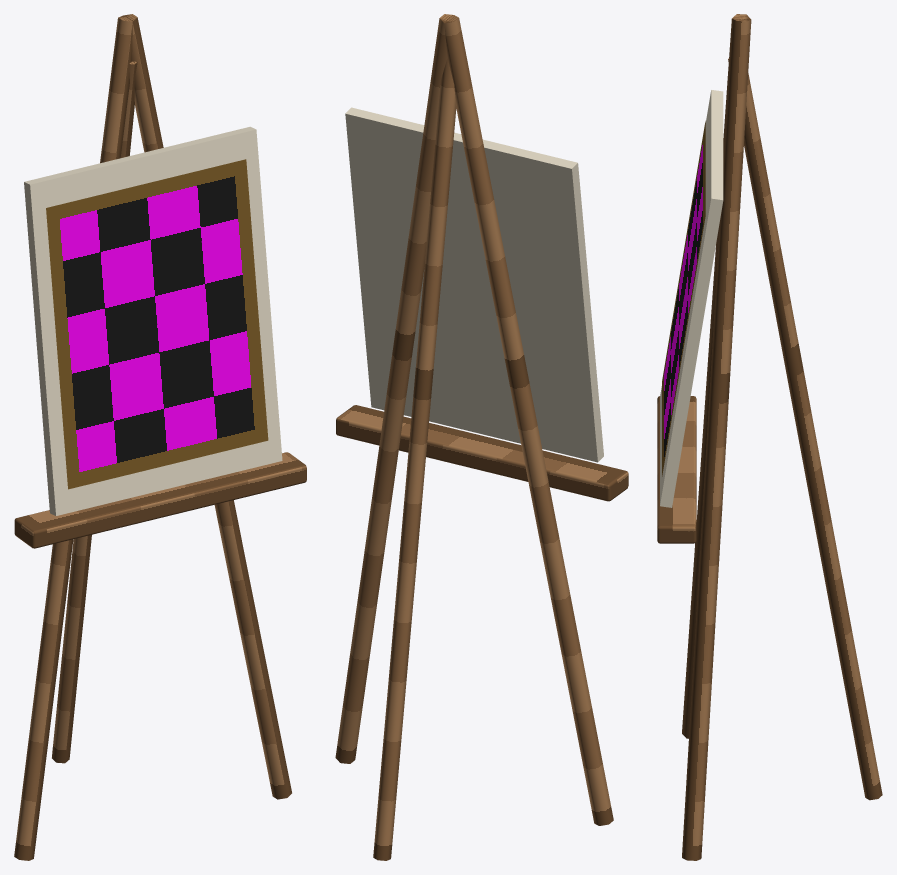
Rendered from easel.glb.
3 renders of one model, left to right at view 1: azimuth 30°, elevation 25°; view 2: azimuth 150°, elevation 25°; view 3: azimuth 270°, elevation 25°, orthographic.
Parts seen in each view (by area): view 1: dyn_painting_variant, dyn_wood_variant, easel; view 2: dyn_wood_variant, easel; view 3: dyn_wood_variant, easel, dyn_painting_variant.
Boxes of the visible parts, x1,y1,x2,y2 form: dyn_painting_variant: (46,159,268,489); dyn_wood_variant: (14,14,306,860); easel: (24,126,282,515); dyn_wood_variant: (335,14,628,860); easel: (345,107,603,462); dyn_wood_variant: (657,14,882,860); easel: (660,90,723,507); dyn_painting_variant: (662,121,705,476).
Size of the model in its own units: 0.6381 by 1.76 by 0.4599.
Materials: 3 (2 with a texture image).
